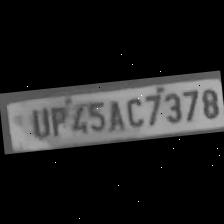3: (160, 88, 183, 124)
4: (66, 99, 88, 135)
5: (82, 97, 106, 133)
7: (140, 90, 164, 128), (178, 86, 201, 122)
8: (196, 84, 220, 120)
A: (102, 96, 125, 132)
C: (120, 92, 146, 130)
P: (46, 100, 69, 136)
U: (24, 104, 50, 140)
